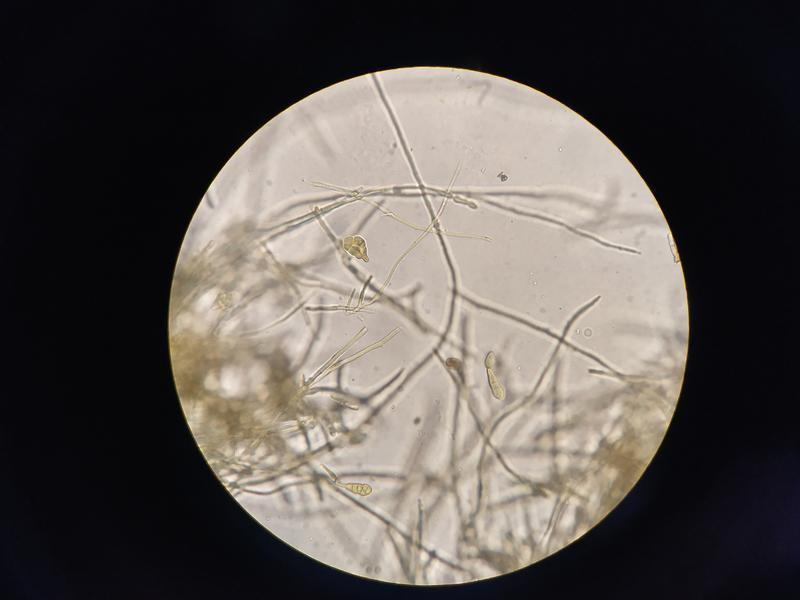fungus: (239, 154, 620, 503)
